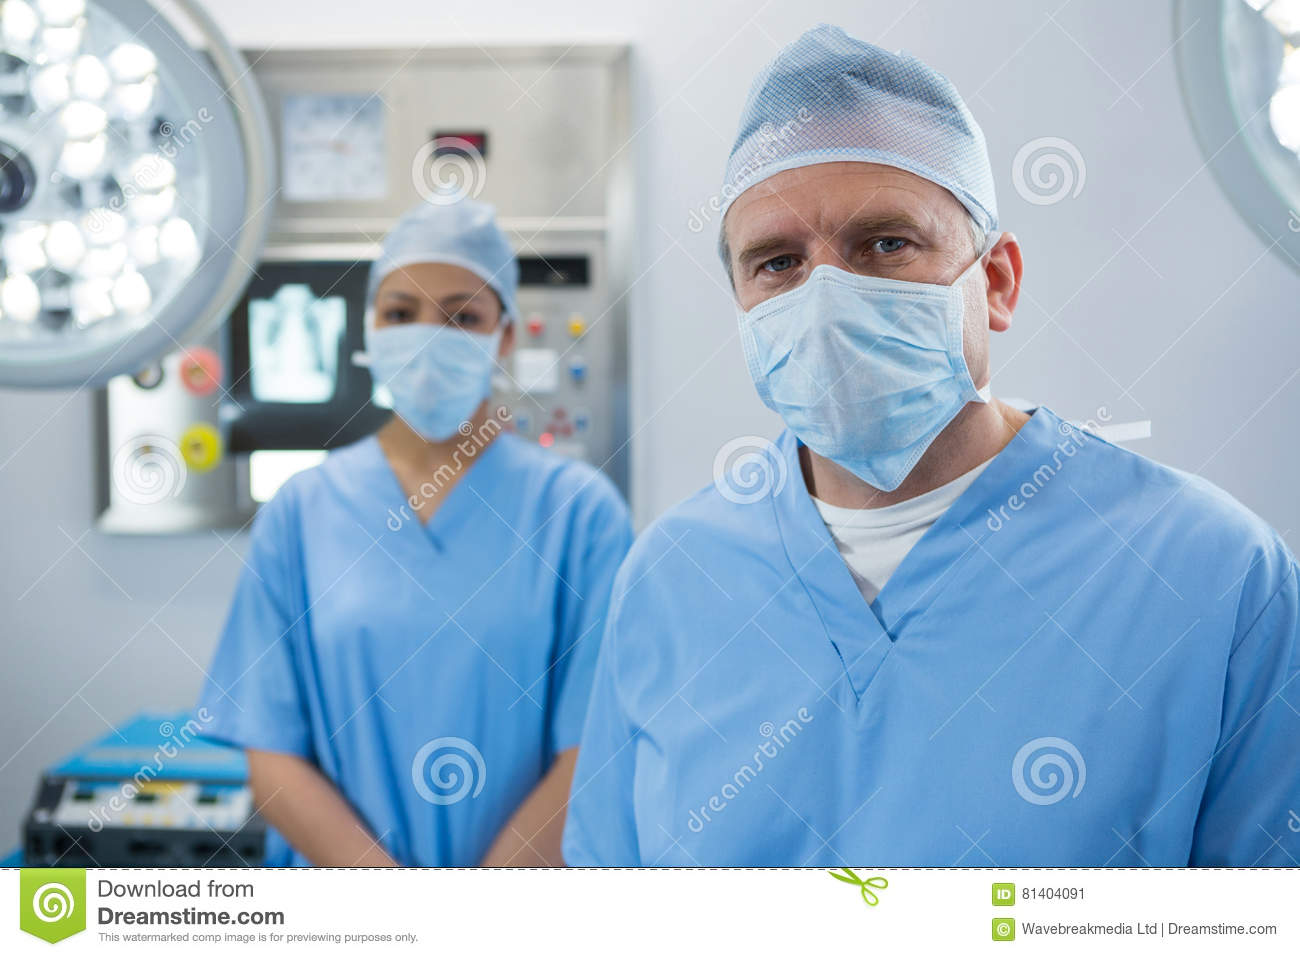mask: (733, 279, 1030, 492), (351, 317, 522, 458)
